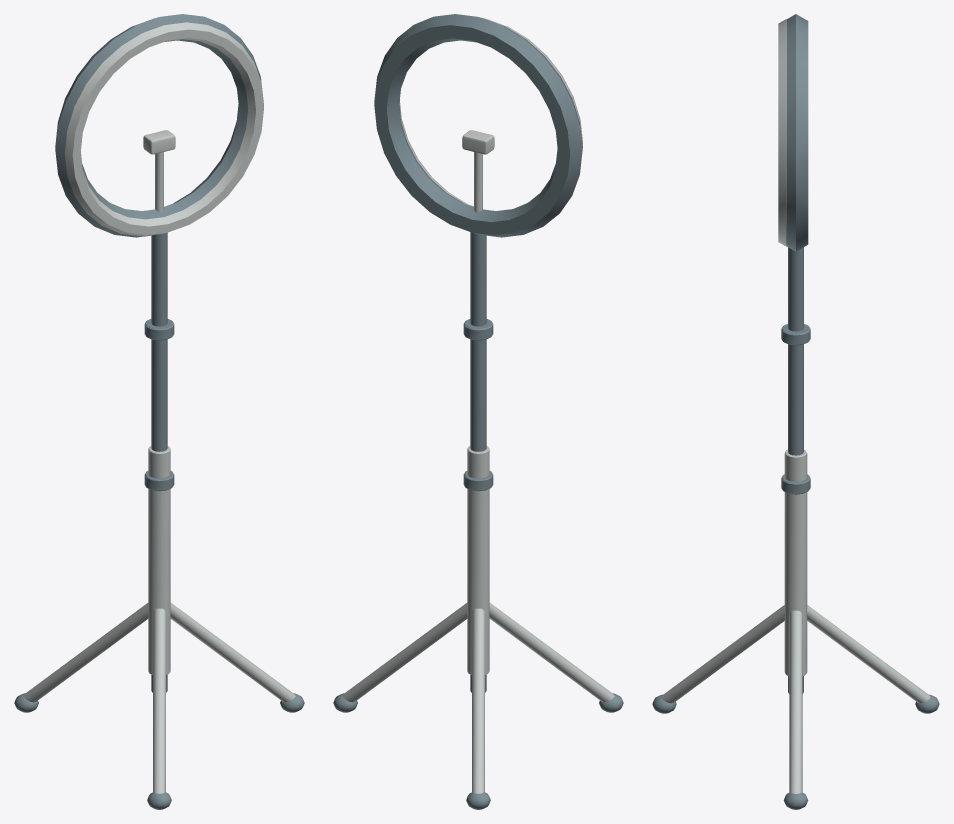
Rendered from ring-light.glb.
The picture shows the model from 3 angles, left to right: view 1: azimuth 30°, elevation 25°; view 2: azimuth 150°, elevation 25°; view 3: azimuth 270°, elevation 25°; orthographic projection.
Visible parts, largest first — view 1: ring_light_diffuser, ring_light_housing, lower_stand, telescoping_stand, tripod_leg_1, tripod_leg_0, tripod_leg_2, phone_clamp, phone_mount; view 2: ring_light_housing, lower_stand, telescoping_stand, tripod_leg_2, tripod_leg_0, tripod_leg_1, phone_clamp, ring_light_diffuser, phone_mount; view 3: ring_light_housing, lower_stand, telescoping_stand, tripod_leg_0, ring_light_diffuser, tripod_leg_1, tripod_leg_2.
Part boxes in pixels (x1,y1,x2,y2): ring_light_diffuser: [64, 22, 263, 236]; ring_light_housing: [55, 14, 261, 237]; lower_stand: [148, 446, 170, 674]; telescoping_stand: [151, 232, 167, 692]; tripod_leg_1: [153, 608, 165, 793]; tripod_leg_0: [170, 603, 295, 702]; tripod_leg_2: [23, 603, 148, 702]; phone_clamp: [143, 130, 175, 154]; phone_mount: [155, 152, 163, 212]; ring_light_housing: [374, 14, 582, 237]; lower_stand: [467, 446, 489, 674]; telescoping_stand: [470, 232, 486, 692]; tripod_leg_2: [472, 608, 484, 793]; tripod_leg_0: [342, 603, 467, 702]; tripod_leg_1: [489, 603, 614, 702]; phone_clamp: [462, 130, 494, 154]; ring_light_diffuser: [399, 17, 582, 206]; phone_mount: [474, 152, 482, 212]; ring_light_housing: [786, 14, 808, 251]; lower_stand: [784, 449, 807, 675]; telescoping_stand: [788, 247, 803, 693]; tripod_leg_0: [789, 610, 802, 793]; ring_light_diffuser: [778, 19, 786, 246]; tripod_leg_1: [661, 605, 784, 703]; tripod_leg_2: [807, 605, 930, 703].
Size of the model in its own units: 0.783 by 2.2 by 0.7955.
